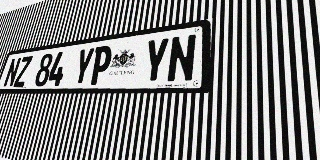4: (46, 51, 69, 86)
8: (33, 53, 55, 87)
N: (166, 33, 197, 83), (3, 57, 22, 87)
P: (88, 45, 114, 85)
Y: (141, 37, 170, 84), (71, 47, 95, 85)
Z: (13, 56, 33, 87)
